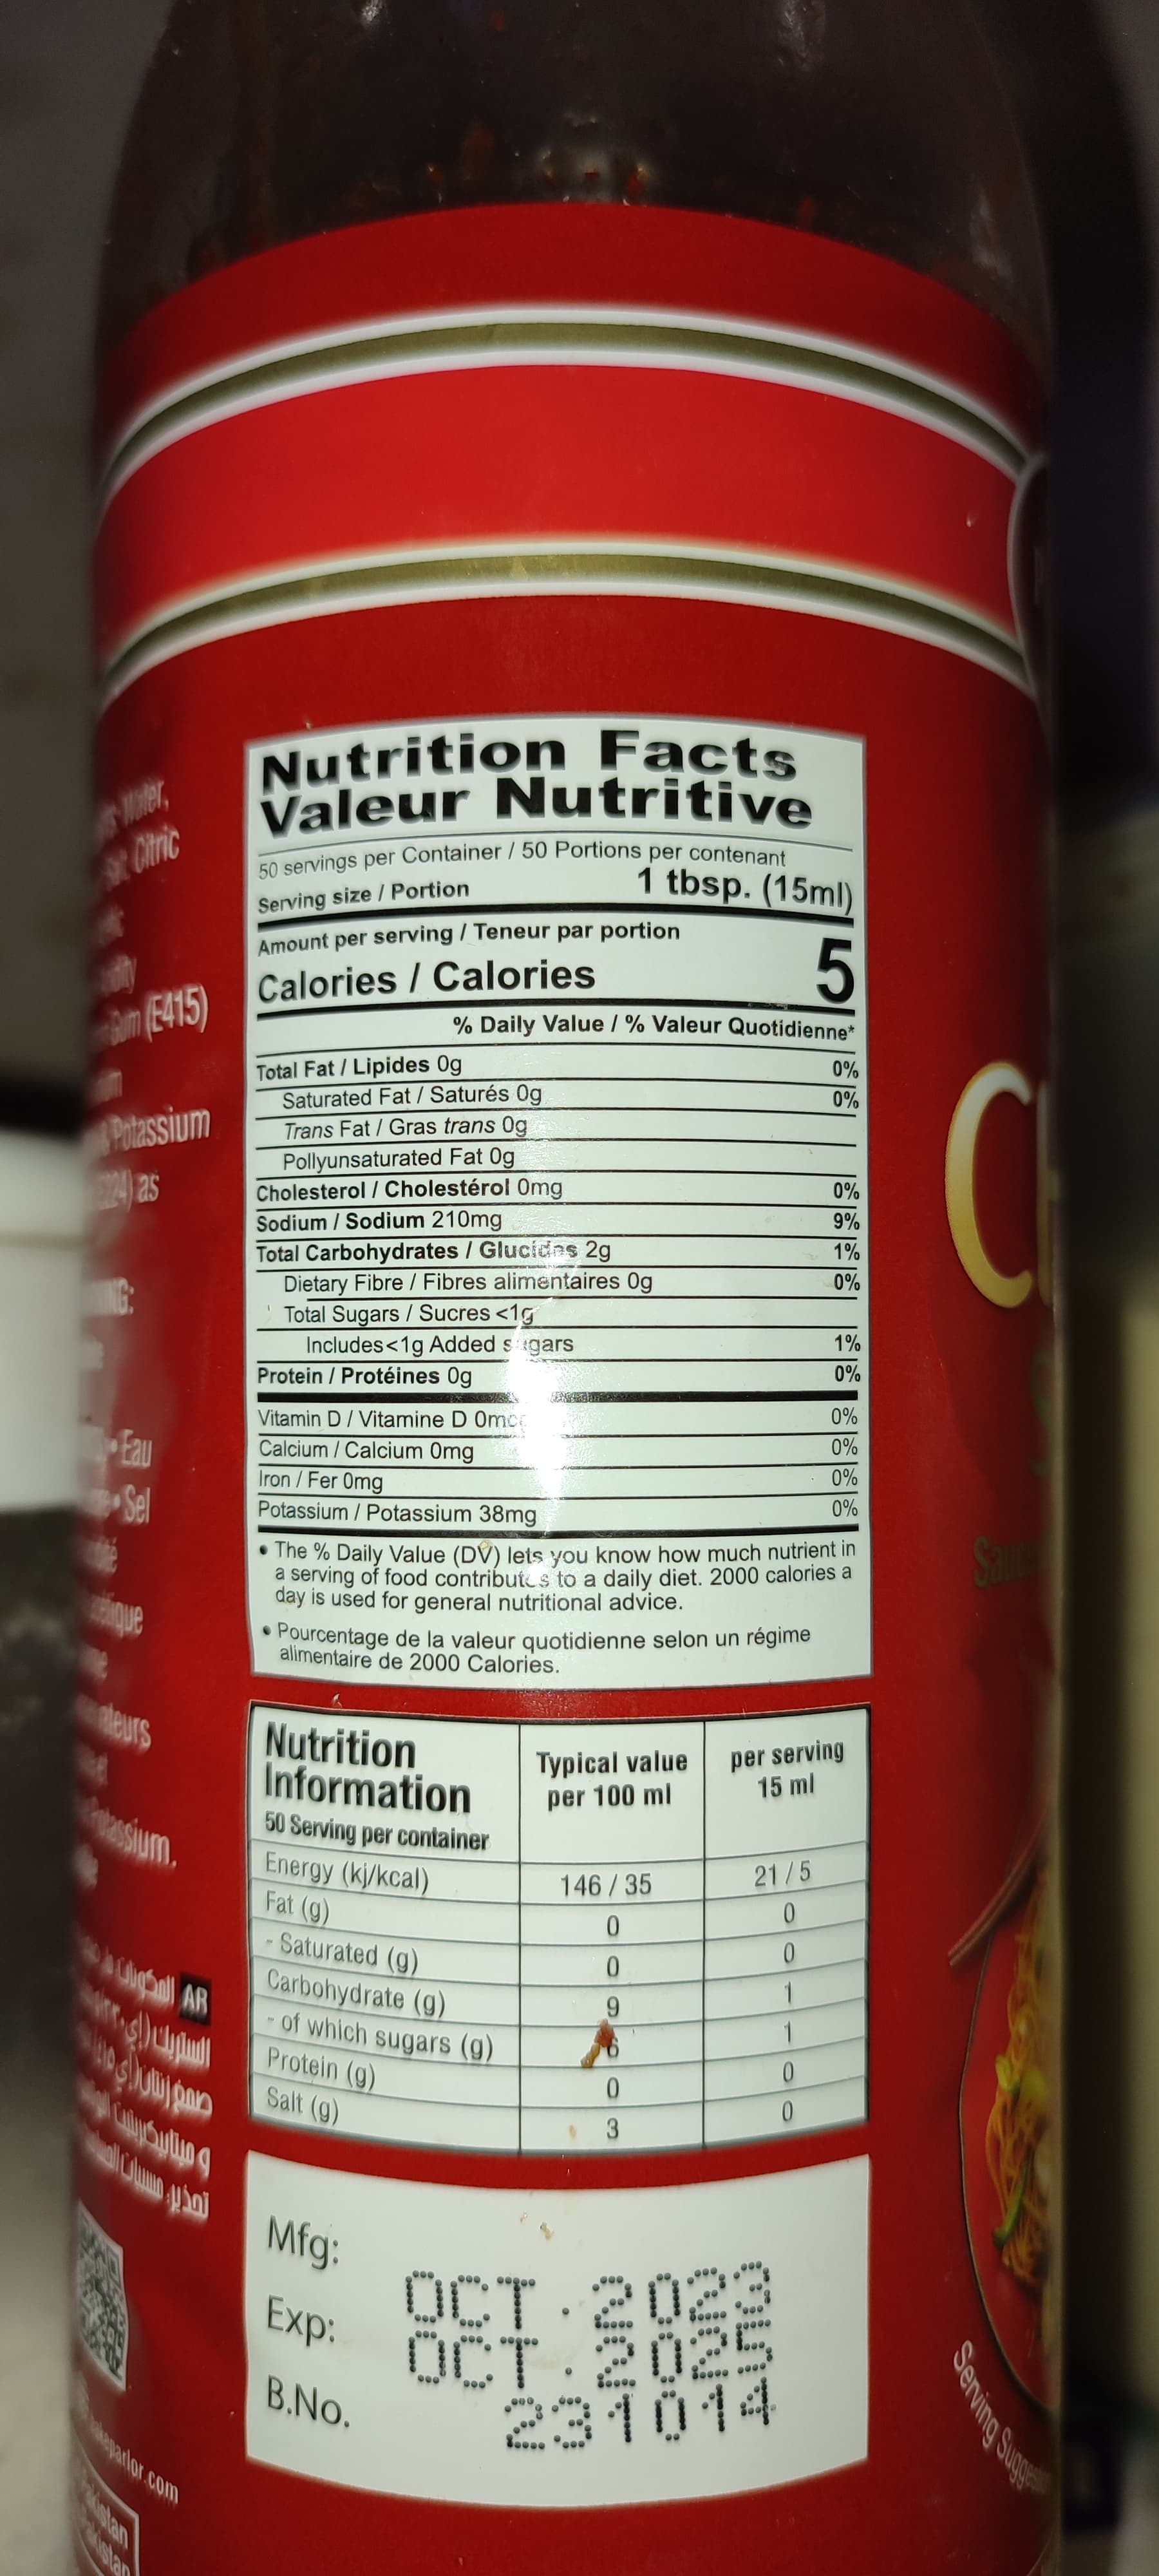table: (243, 711, 883, 2149)
